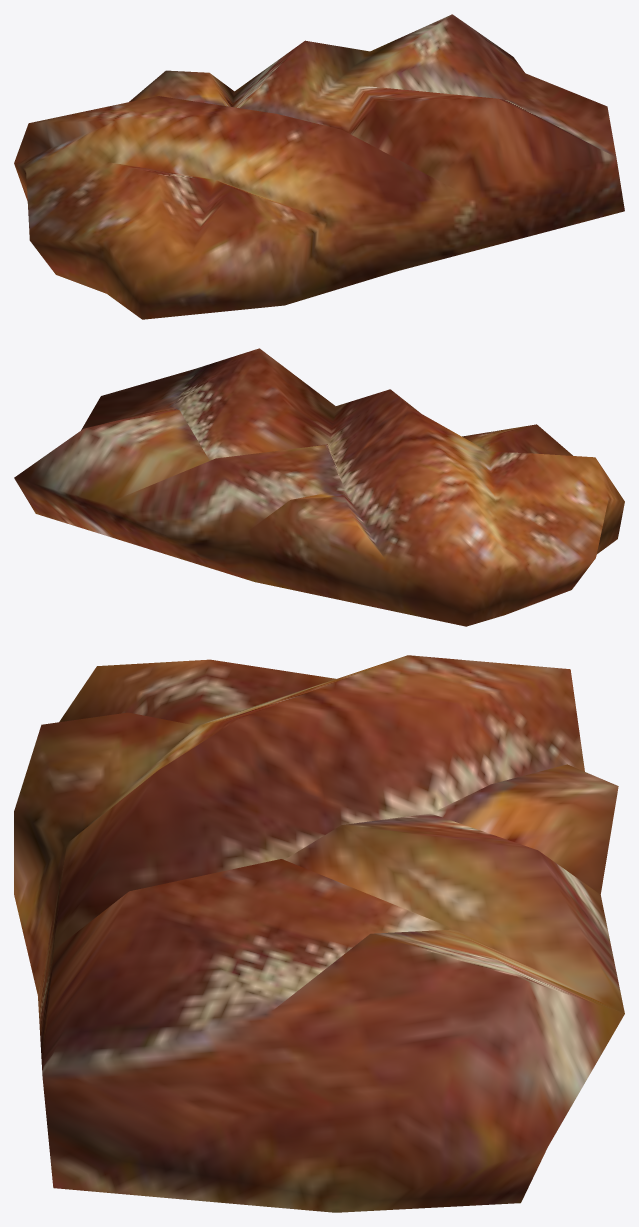
The model's file is food-bread02.glb.
3 views of the same model, one above another, from view 1: azimuth 30°, elevation 25°; view 2: azimuth 150°, elevation 25°; view 3: azimuth 270°, elevation 25° (orthographic). The views are drawn at different scales.
Visible parts, largest first — view 1: food-bread02; view 2: food-bread02; view 3: food-bread02.
Part boxes in pixels (box(x1,y1,x2,y2)): food-bread02: box(14, 14, 624, 319); food-bread02: box(14, 348, 624, 626); food-bread02: box(14, 655, 624, 1212).
Bounding box in the file's own units: 0.2896 × 0.0652 × 0.1623.
Materials: 1 (1 with a texture image).
